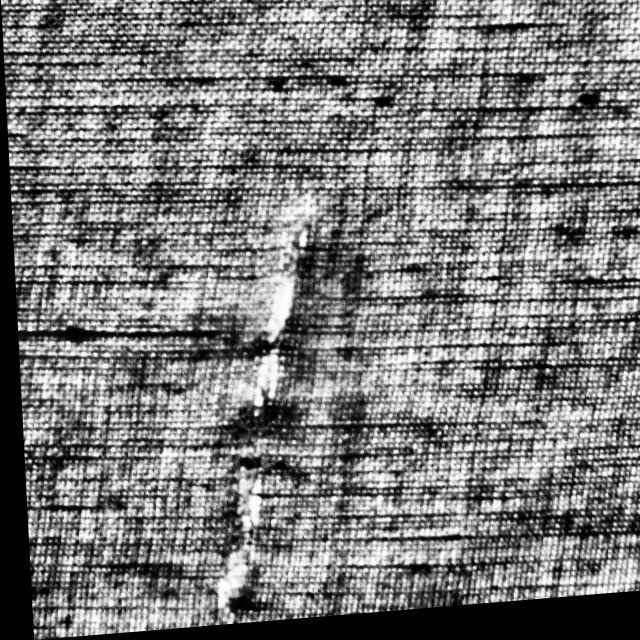Stitch: (184, 188, 350, 626)
